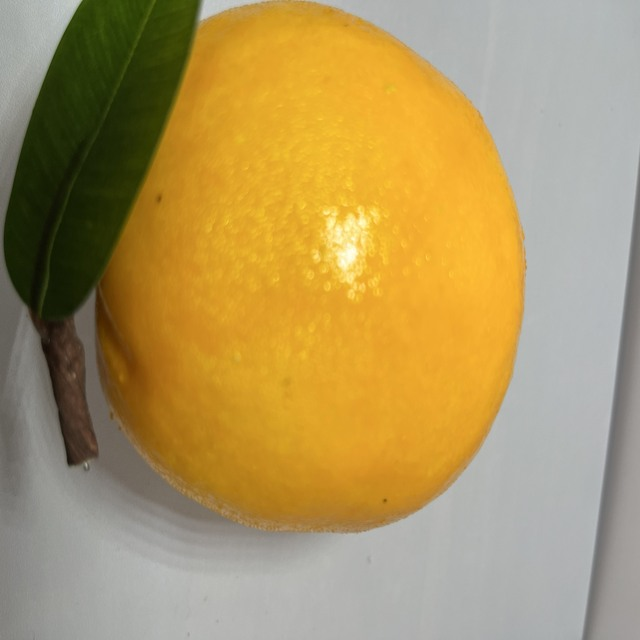Cam vang: (44, 0, 533, 538)
